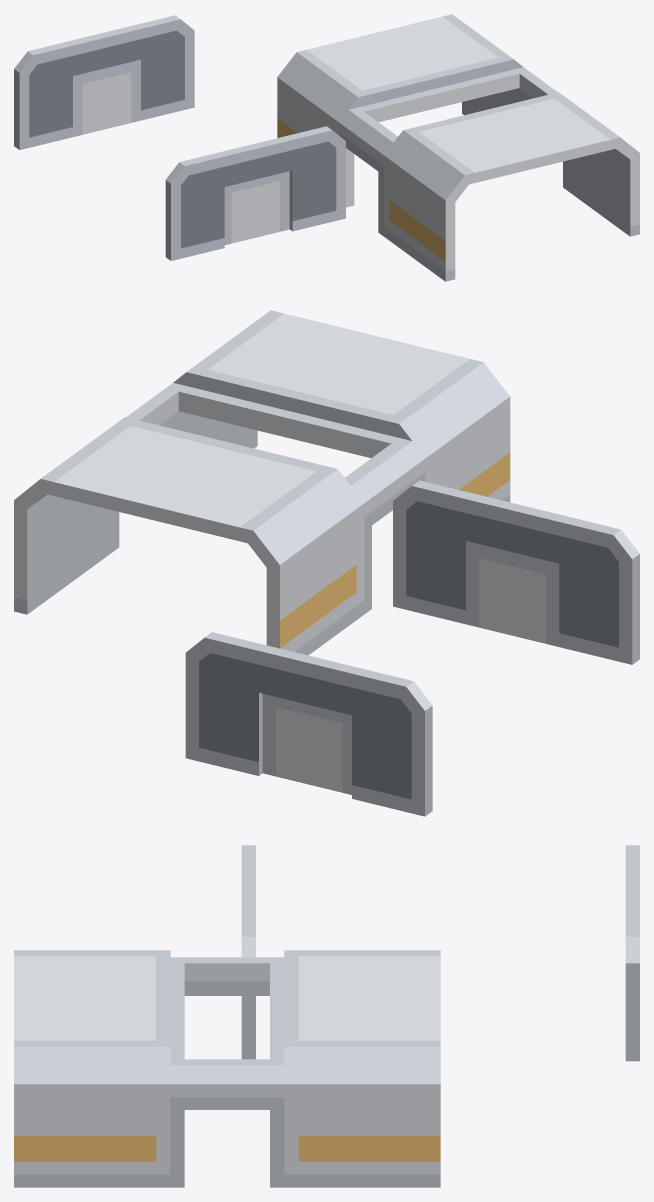
The model's file is hangar_largeA.glb.
3 views of the same model, one above another, from view 1: azimuth 30°, elevation 25°; view 2: azimuth 150°, elevation 25°; view 3: azimuth 270°, elevation 25° (orthographic). The views are drawn at different scales.
Parts seen in each view (by area): view 1: hangar_largeA, gate, gate.001; view 2: hangar_largeA, gate.001, gate; view 3: hangar_largeA, gate, gate.001.
Part boxes in pixels (left/top/right/bottom): hangar_largeA: left=277, top=14, right=639, bottom=281; gate: left=14, top=15, right=194, bottom=149; gate.001: left=165, top=126, right=345, bottom=260; hangar_largeA: left=14, top=310, right=510, bottom=655; gate.001: left=393, top=480, right=639, bottom=664; gate: left=185, top=632, right=432, bottom=816; hangar_largeA: left=14, top=950, right=440, bottom=1187; gate: left=625, top=845, right=639, bottom=1061; gate.001: left=241, top=845, right=255, bottom=1059.
Size of the model in its own units: 3.9 by 1 by 4.4.
